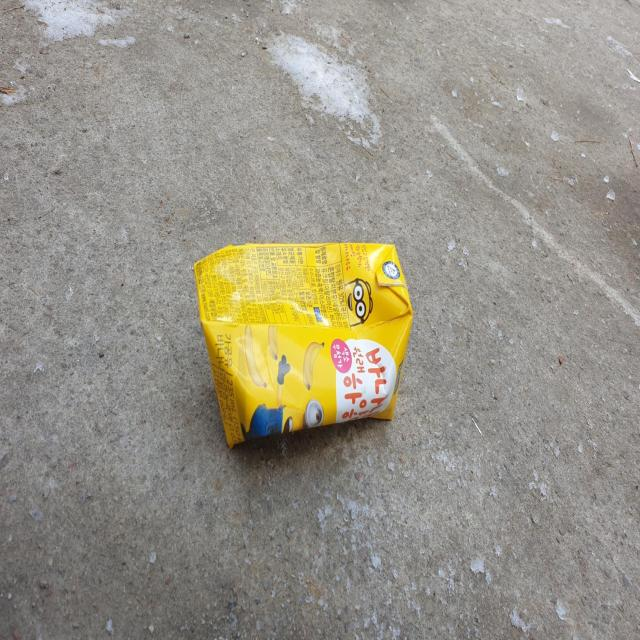paperpack: (194, 242, 413, 447)
